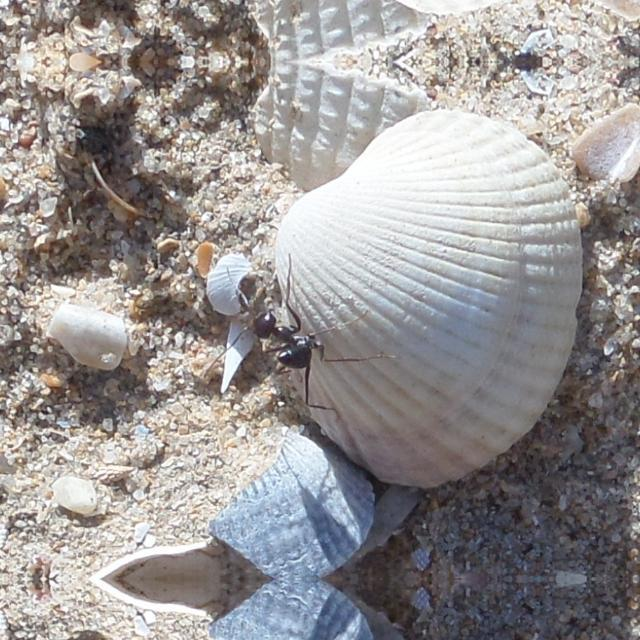Cataglyphis: (238, 294, 339, 382)
